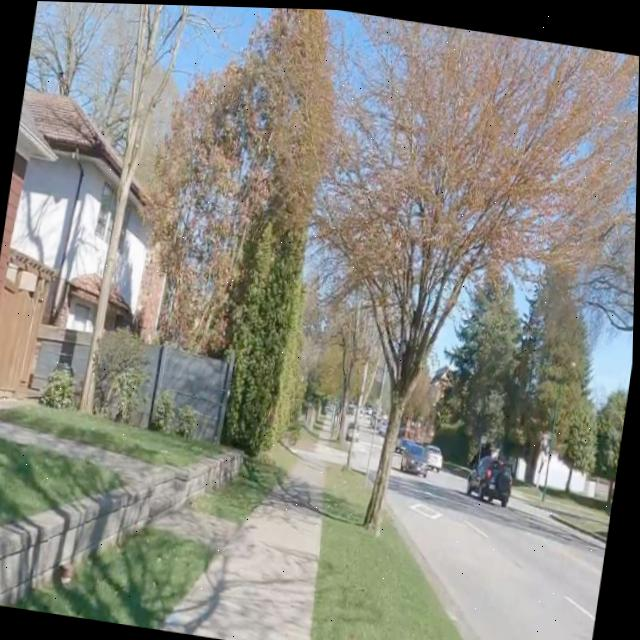Automobile: (468, 450, 514, 501), (401, 438, 426, 473), (428, 442, 444, 469)
Road: (391, 470, 608, 640)
Sidewalk: (166, 458, 326, 640)
